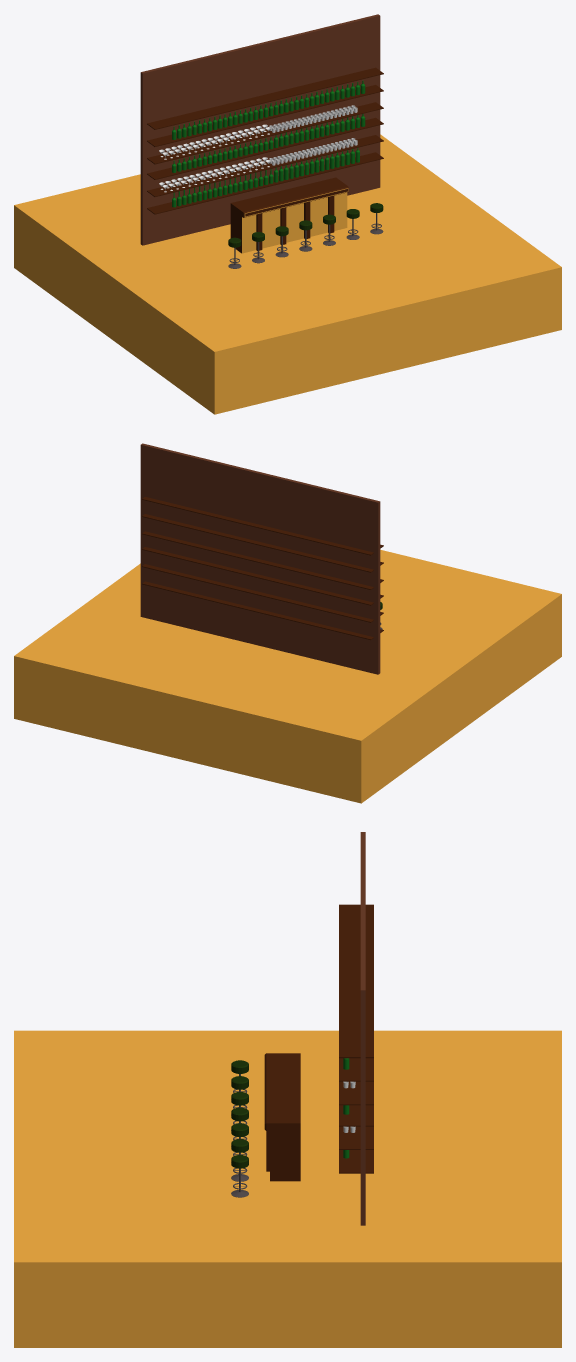
The model's file is Environment.fbx.
The picture shows the model from 3 angles, top to bottom: view 1: azimuth 30°, elevation 25°; view 2: azimuth 150°, elevation 25°; view 3: azimuth 270°, elevation 25°; orthographic projection. The views are drawn at different scales.
Parts seen in each view (by area): view 1: Floor, Shelf, Bar, Bottle_Bottom, Bottle_Top, Bottle_Middle, BarStool, MartiniGlass_Top, MartiniGlass_Bottom, Glass_Top, Glass_Bottom; view 2: Floor, Shelf; view 3: Floor, Shelf, Bar, BarStool.
Part boxes in pixels (left/top/right/bottom): Floor: left=14, top=134, right=561, bottom=414; Shelf: left=140, top=14, right=383, bottom=245; Bar: left=230, top=177, right=348, bottom=253; Bottle_Bottom: left=172, top=148, right=359, bottom=207; Bottle_Top: left=172, top=80, right=365, bottom=139; Bottle_Middle: left=172, top=114, right=365, bottom=172; BarStool: left=228, top=203, right=383, bottom=268; MartiniGlass_Top: left=159, top=124, right=271, bottom=159; MartiniGlass_Bottom: left=159, top=157, right=271, bottom=192; Glass_Top: left=269, top=105, right=357, bottom=132; Glass_Bottom: left=269, top=138, right=357, bottom=165; Floor: left=14, top=549, right=561, bottom=803; Shelf: left=140, top=443, right=383, bottom=674; Floor: left=14, top=1030, right=561, bottom=1347; Shelf: left=339, top=832, right=373, bottom=1225; Bar: left=264, top=1053, right=300, bottom=1181; BarStool: left=231, top=1060, right=248, bottom=1197.
Bounding box in the file's own units: 3115 × 2130 × 3115.
